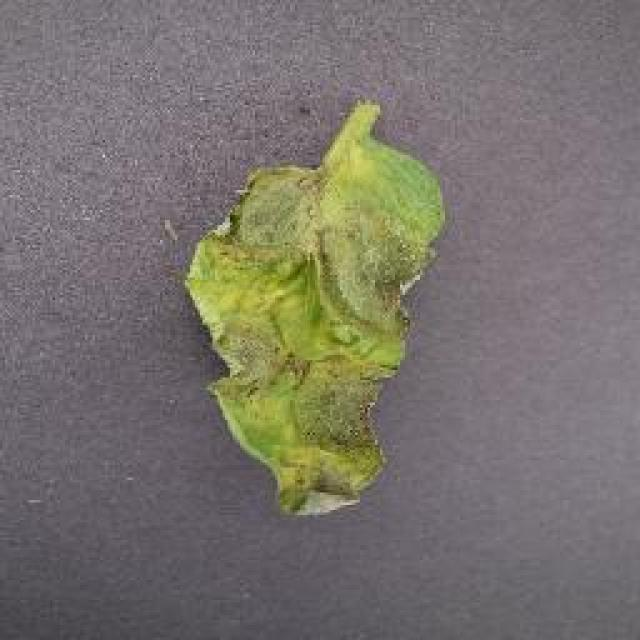Tomato Late Blight: (237, 103, 415, 522)
